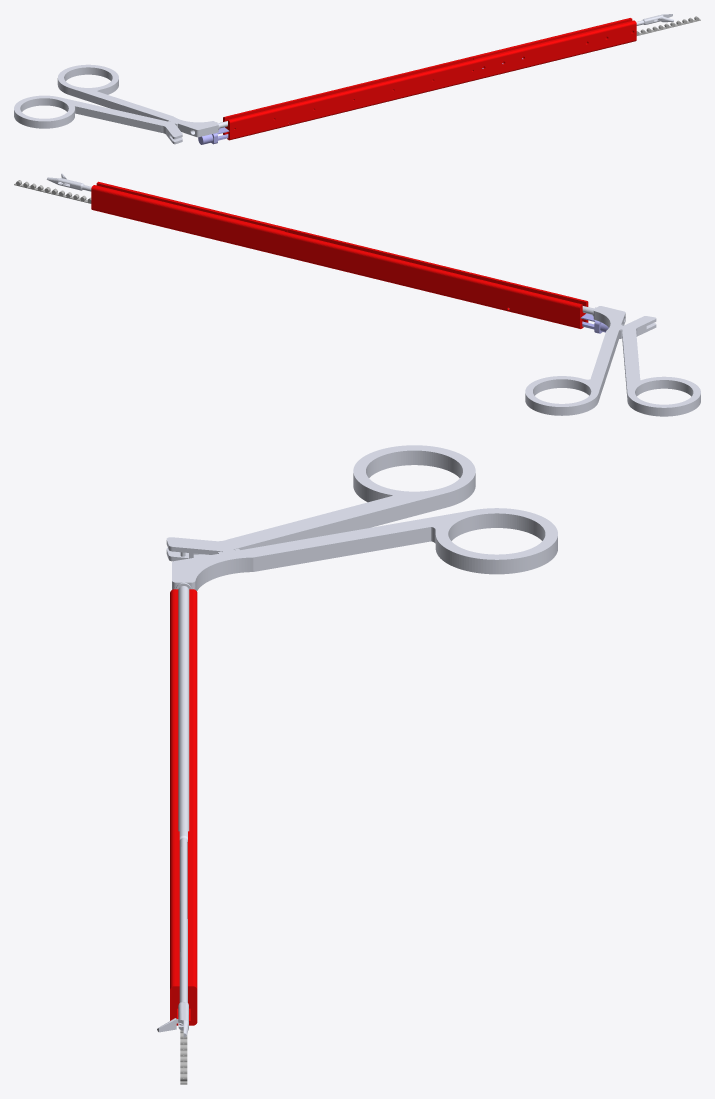
The model's file is microkiap v4 (rest position) (FULL BODY, JAW OPEN).fbx.
The picture shows the model from 3 angles, top to bottom: view 1: azimuth 30°, elevation 25°; view 2: azimuth 150°, elevation 25°; view 3: azimuth 270°, elevation 25°; orthographic projection. The views are drawn at different scales.
Parts seen in each view (by area): view 1: imagetostl_mesh3, imagetostl_mesh1, imagetostl_mesh2, imagetostl_mesh4; view 2: imagetostl_mesh3, imagetostl_mesh1; view 3: imagetostl_mesh1, imagetostl_mesh3.
Part boxes in pixels (x1,y1,x2,y2): imagetostl_mesh3: [223, 18, 636, 140]; imagetostl_mesh1: [14, 14, 673, 144]; imagetostl_mesh2: [198, 58, 522, 144]; imagetostl_mesh4: [636, 17, 700, 35]; imagetostl_mesh3: [91, 181, 588, 328]; imagetostl_mesh1: [46, 173, 700, 416]; imagetostl_mesh1: [157, 445, 557, 1037]; imagetostl_mesh3: [170, 589, 197, 1025].
Size of the model in its own units: 31467 by 1050 by 8755.
